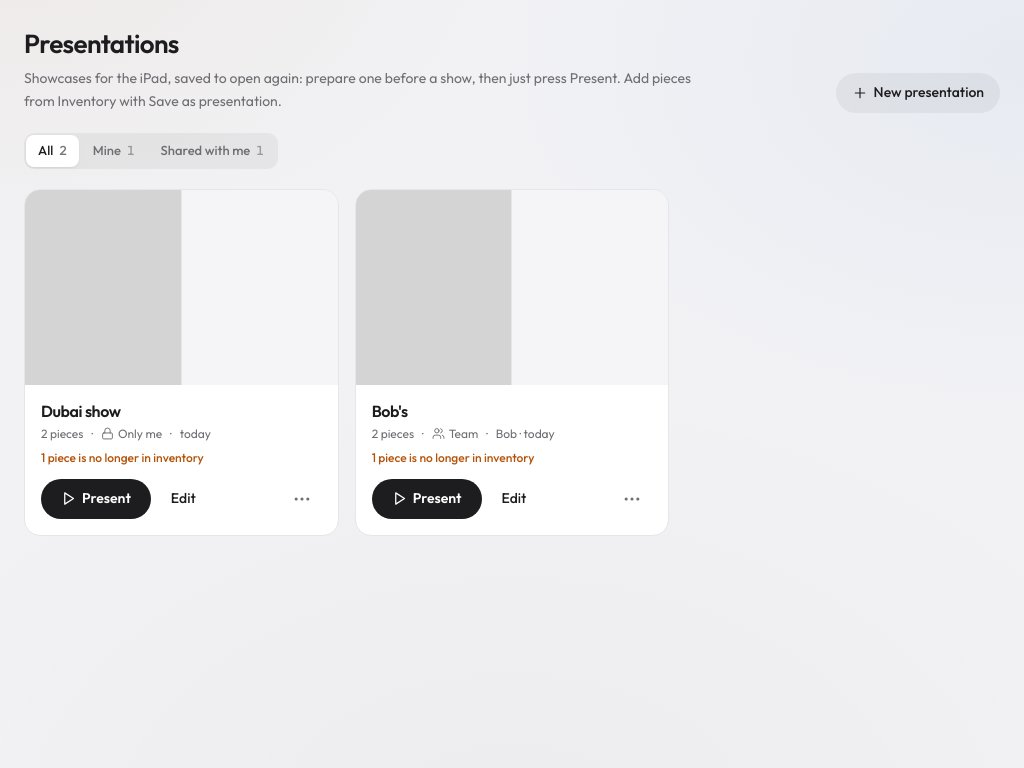
Test: lists presentations with who sees them, and filters mine from shared
The image size is (1024, 768).
Expected: the heading "Dubai show" is shown, 41,401 -> 121,421
Expected: the heading "Bob's" is shown, 372,401 -> 408,421
Click the radio button labelled "Shared with me1" at coordinates (212, 150), box 149,134 -> 276,166
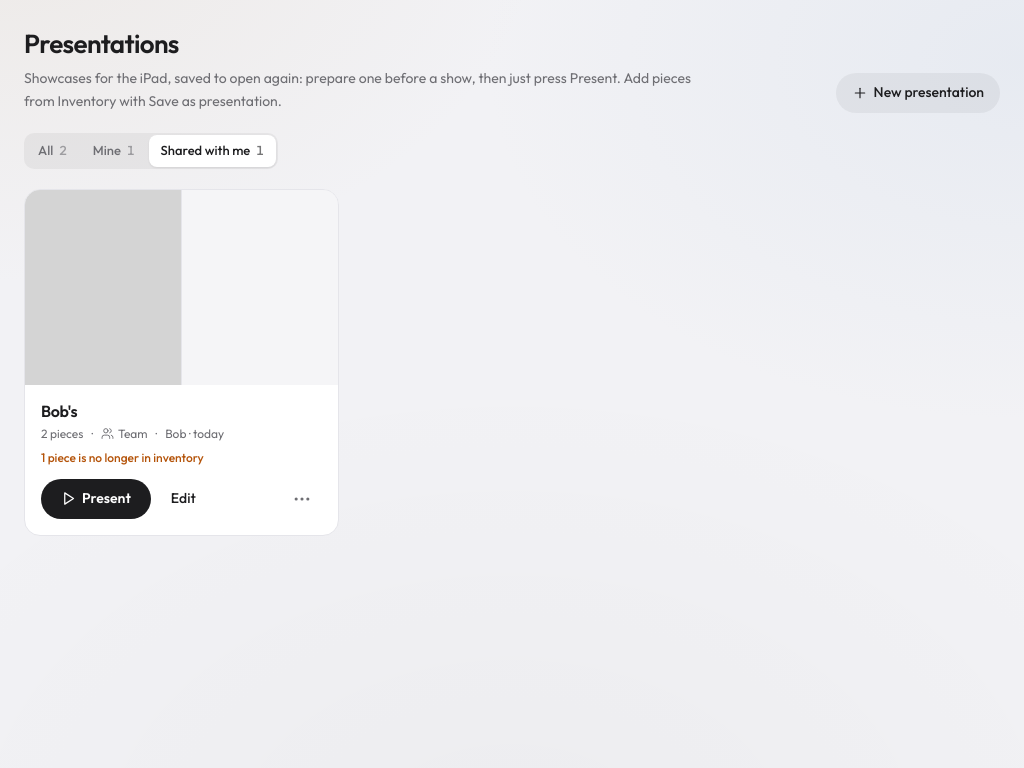
Expected: the heading "Bob's" is shown, 41,401 -> 77,421
Result: the button "Dubai show" is gone
